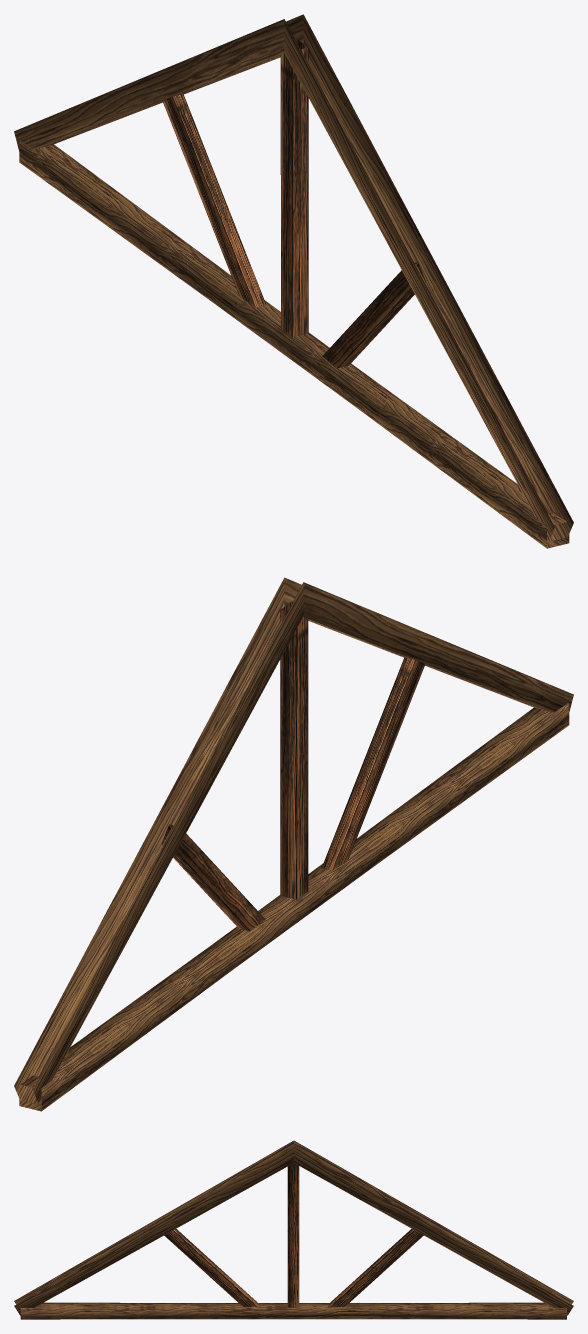
Rendered from INST_LT_CEIL_BEAMS.fbx.
3 renders of one model, top to bottom at view 1: azimuth 30°, elevation 25°; view 2: azimuth 150°, elevation 25°; view 3: azimuth 270°, elevation 25°, orthographic. The views are drawn at different scales.
Parts seen in each view (by area): view 1: INST_LT_CEIL_BEAMS; view 2: INST_LT_CEIL_BEAMS; view 3: INST_LT_CEIL_BEAMS.
Part boxes in pixels (x1,y1,x2,y2): INST_LT_CEIL_BEAMS: (14, 14, 573, 548); INST_LT_CEIL_BEAMS: (14, 577, 573, 1111); INST_LT_CEIL_BEAMS: (14, 1140, 573, 1319).
Size of the model in its own units: 3908 by 56062 by 163584.
Materials: 2 (2 with a texture image).
